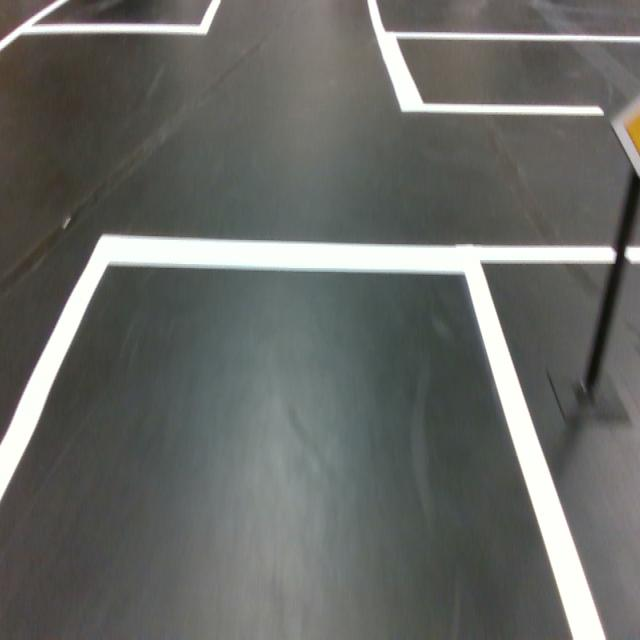priority-sign: (609, 91, 640, 181)
